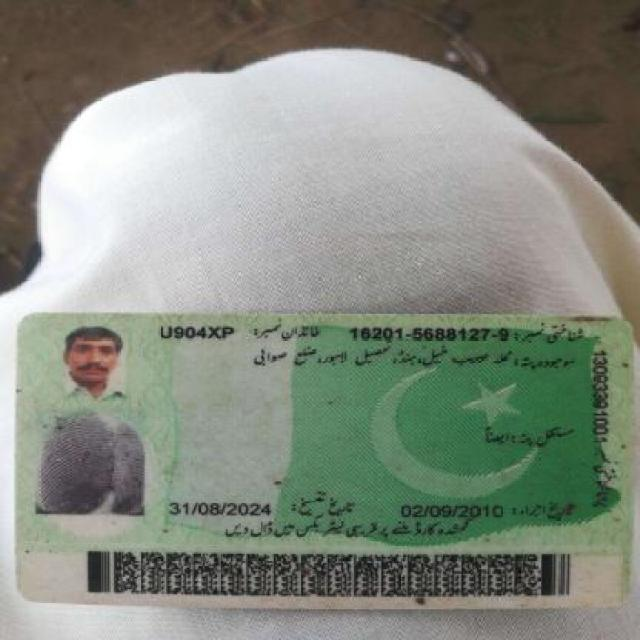Back: (16, 308, 630, 610)
